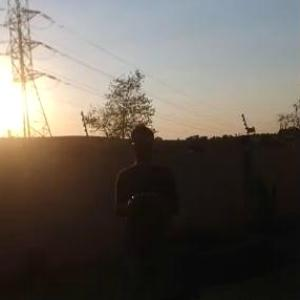follow: (112, 122, 184, 299)
